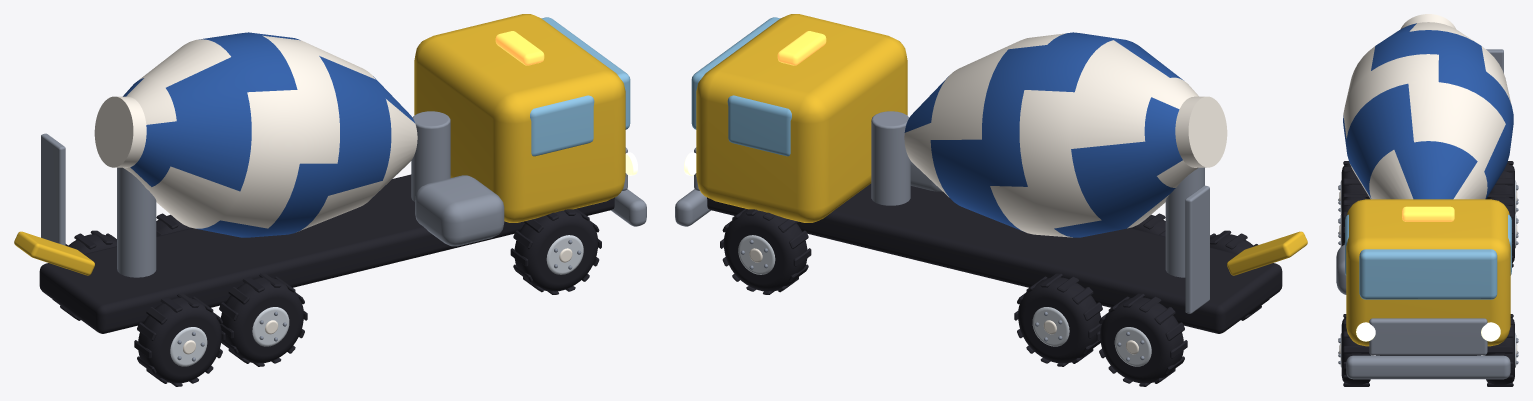
Rendered from cement_truck.glb.
3 views of the same model, side by side, from view 1: azimuth 30°, elevation 25°; view 2: azimuth 150°, elevation 25°; view 3: azimuth 270°, elevation 25° (orthographic). The views are drawn at different scales.
Visible parts, largest first — view 1: cement_truck, drum; view 2: cement_truck, drum; view 3: cement_truck, drum.
Part boxes in pixels (box(x1,y1,x2,y2)): cement_truck: box(14, 14, 646, 386); drum: box(94, 32, 417, 237); cement_truck: box(675, 14, 1307, 386); drum: box(904, 32, 1227, 237); cement_truck: box(1336, 49, 1518, 386); drum: box(1343, 14, 1513, 199).
Bounding box in the file's own units: 8.44 × 3.94 × 2.77.
1 material, 1 textured.
